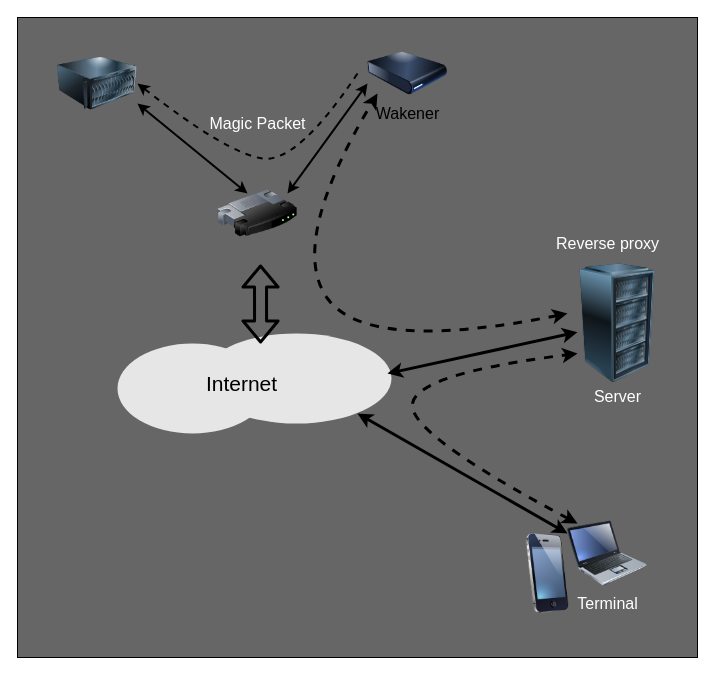
Image size: 715x675. Some labels were removed from this diagram. The centre of each missing label's shape, as x and y in pixels:
"Local Server" belongs at (97,83).
"Router" belongs at (257,213).
